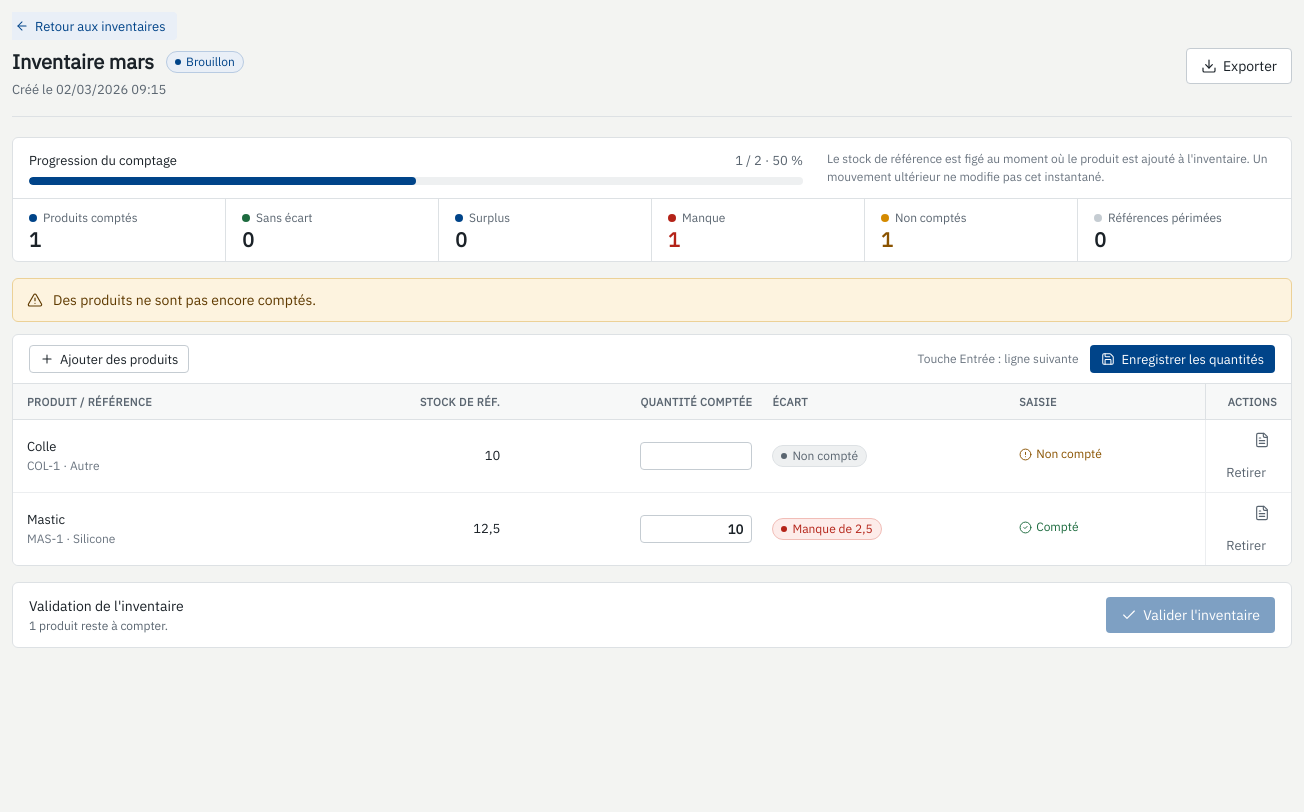
Test: saisie d'un inventaire › refuse plus de trois décimales avant l'enregistrement
The image size is (1304, 812).
Type "1,2345" into the field named "Quantité comptée de Colle".
click(696, 456); type("1,2345")  # box [640,442,752,470]
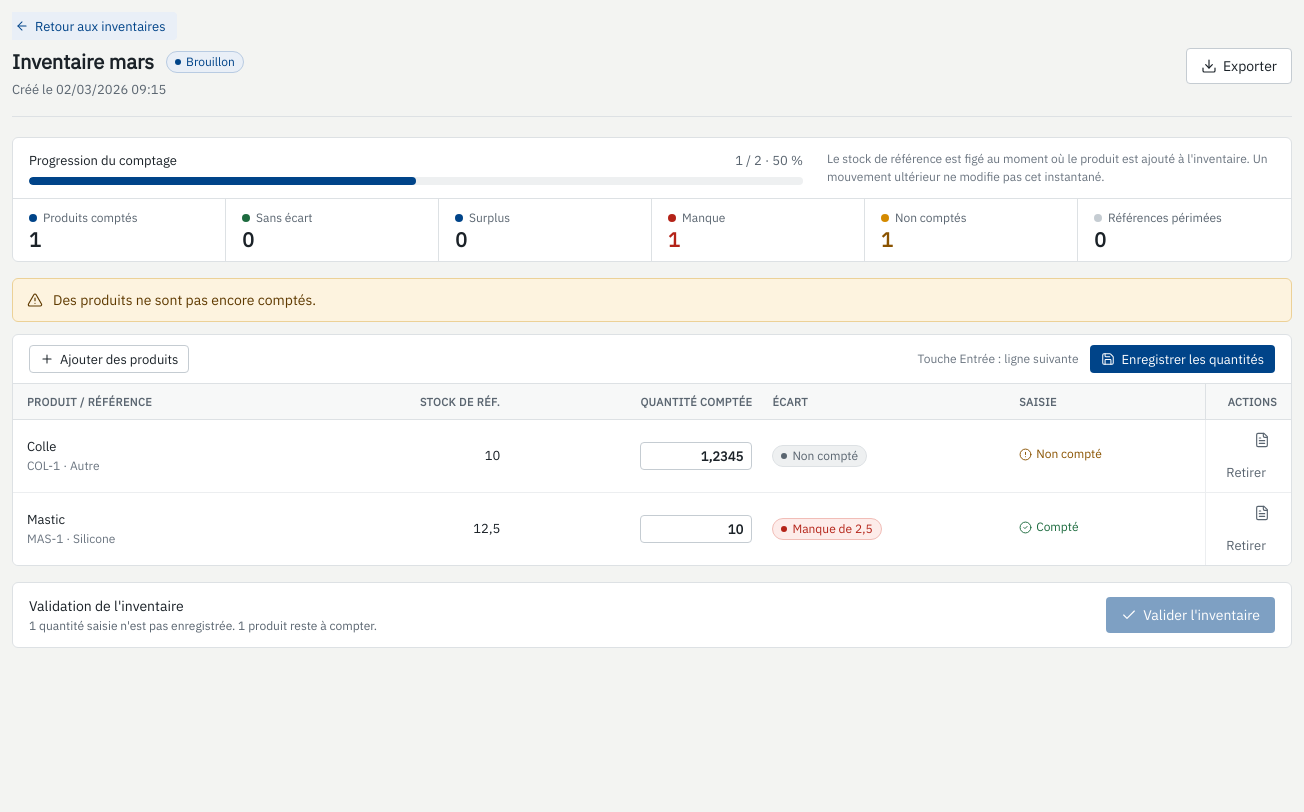
Click the button "Enregistrer les quantités".
click(1183, 359)  # box [1090,345,1275,373]
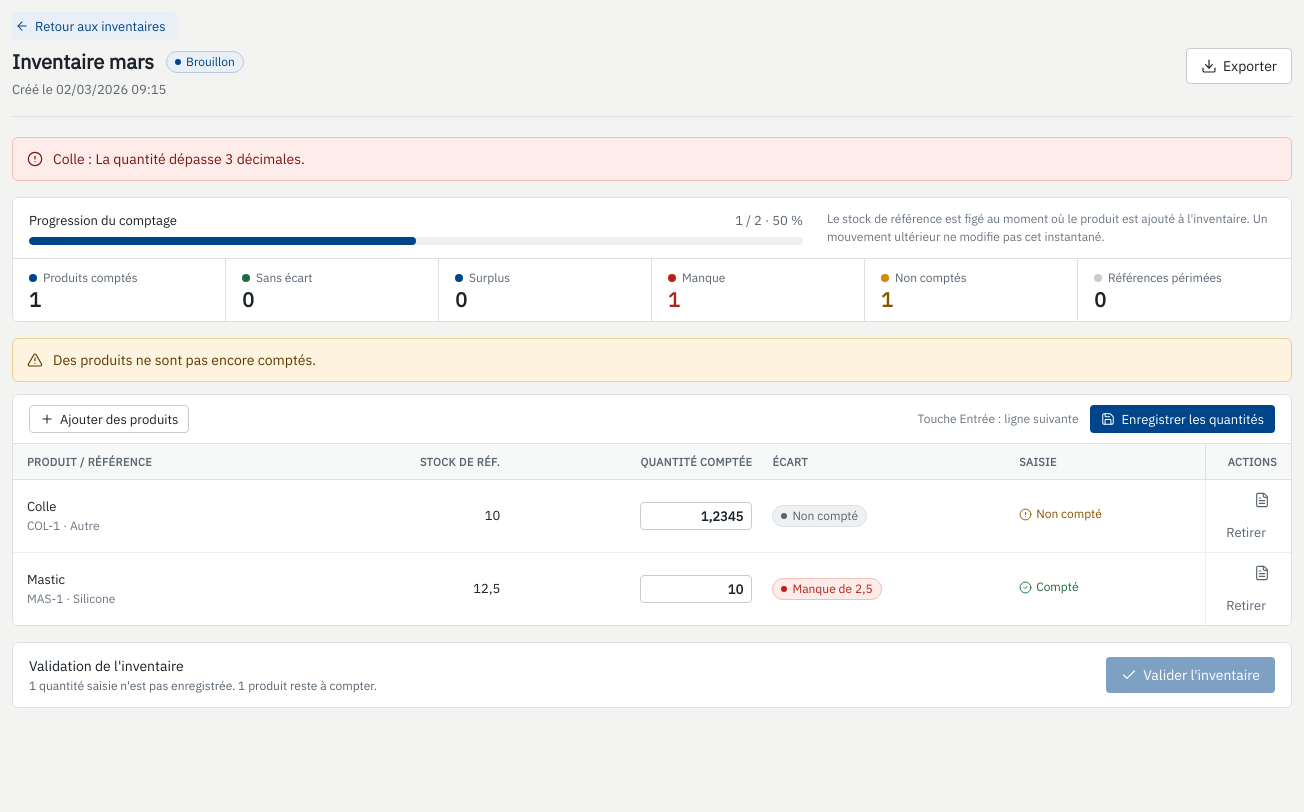
expect the text "Colle : La quantité dépasse 3 décimales." is shown: met, box [53,150,305,168]
